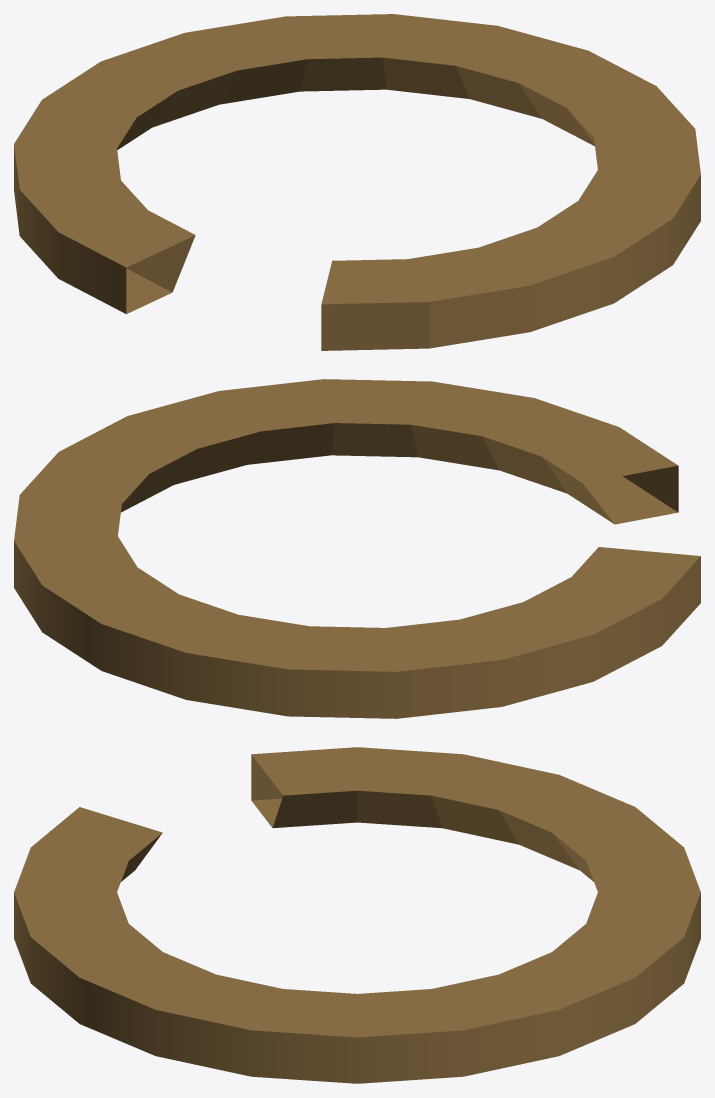
File: arena frame .fbx
The picture shows the model from 3 angles, top to bottom: view 1: azimuth 30°, elevation 25°; view 2: azimuth 150°, elevation 25°; view 3: azimuth 270°, elevation 25°; orthographic projection.
Visible parts, largest first — view 1: pCylinder1; view 2: pCylinder1; view 3: pCylinder1.
Boxes of the visible parts, box(x1,y1,x2,y2) form: pCylinder1: box(14, 14, 700, 350); pCylinder1: box(14, 379, 700, 718); pCylinder1: box(14, 747, 700, 1083).
Bounding box in the file's own units: 1926 × 143 × 1926.
